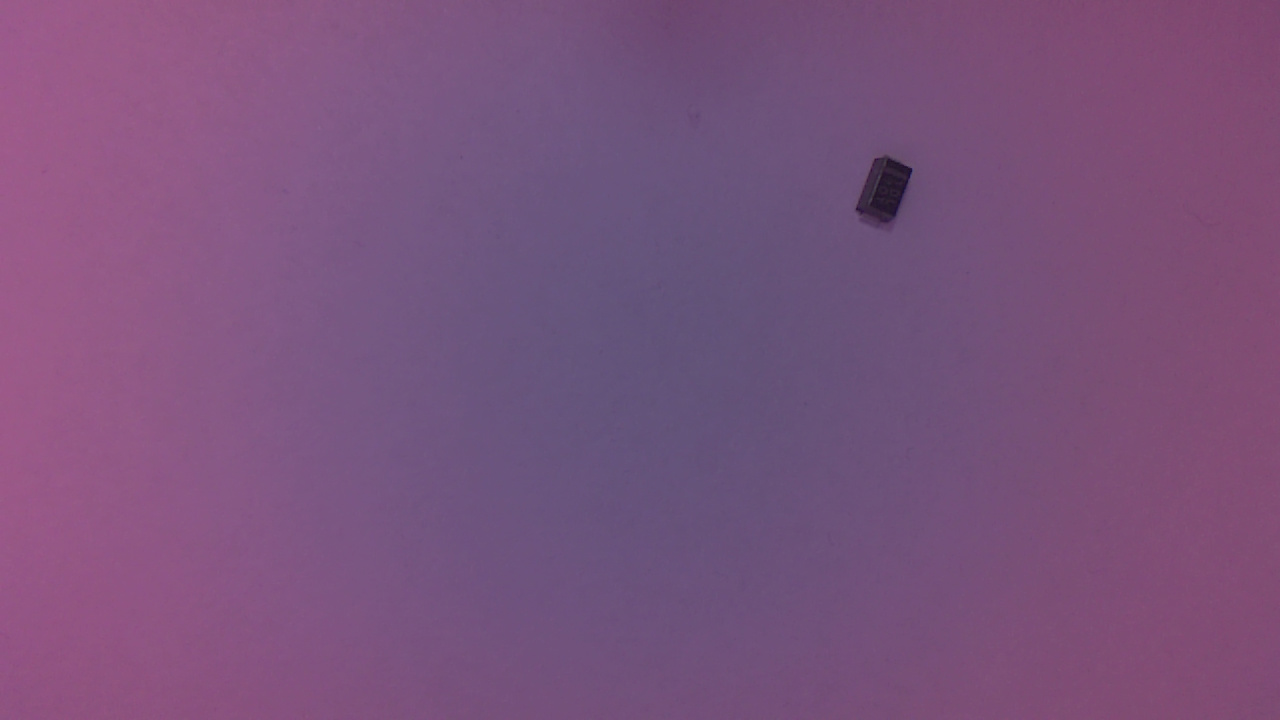Diode: (857, 159, 923, 233)
